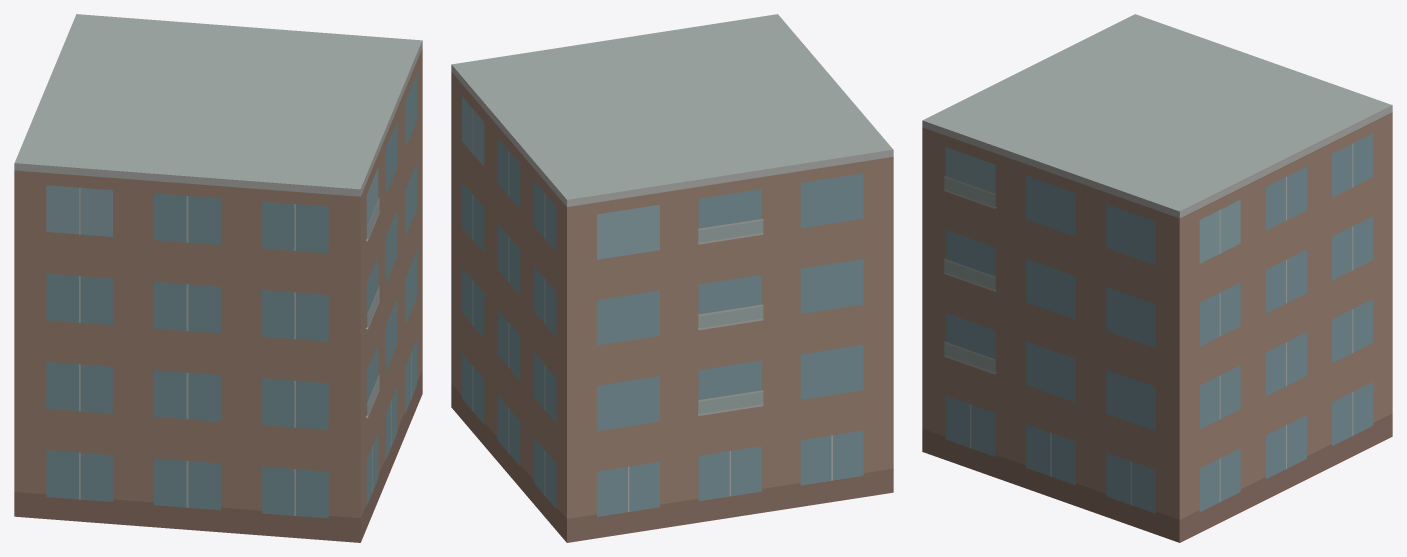
The model's file is survey-upis-32983751.glb.
3 renders of one model, left to right at view 1: azimuth 30°, elevation 25°; view 2: azimuth 150°, elevation 25°; view 3: azimuth 270°, elevation 25°, orthographic. The views are drawn at different scales.
Visible parts, largest first — view 1: survey-upis-32983751.tmp; view 2: survey-upis-32983751.tmp; view 3: survey-upis-32983751.tmp.
Part boxes in pixels (x1,y1,x2,y2): survey-upis-32983751.tmp: [14, 14, 422, 542]; survey-upis-32983751.tmp: [451, 14, 893, 542]; survey-upis-32983751.tmp: [922, 14, 1392, 542].
Size of the model in its own units: 15.1 by 11.8 by 15.19.
